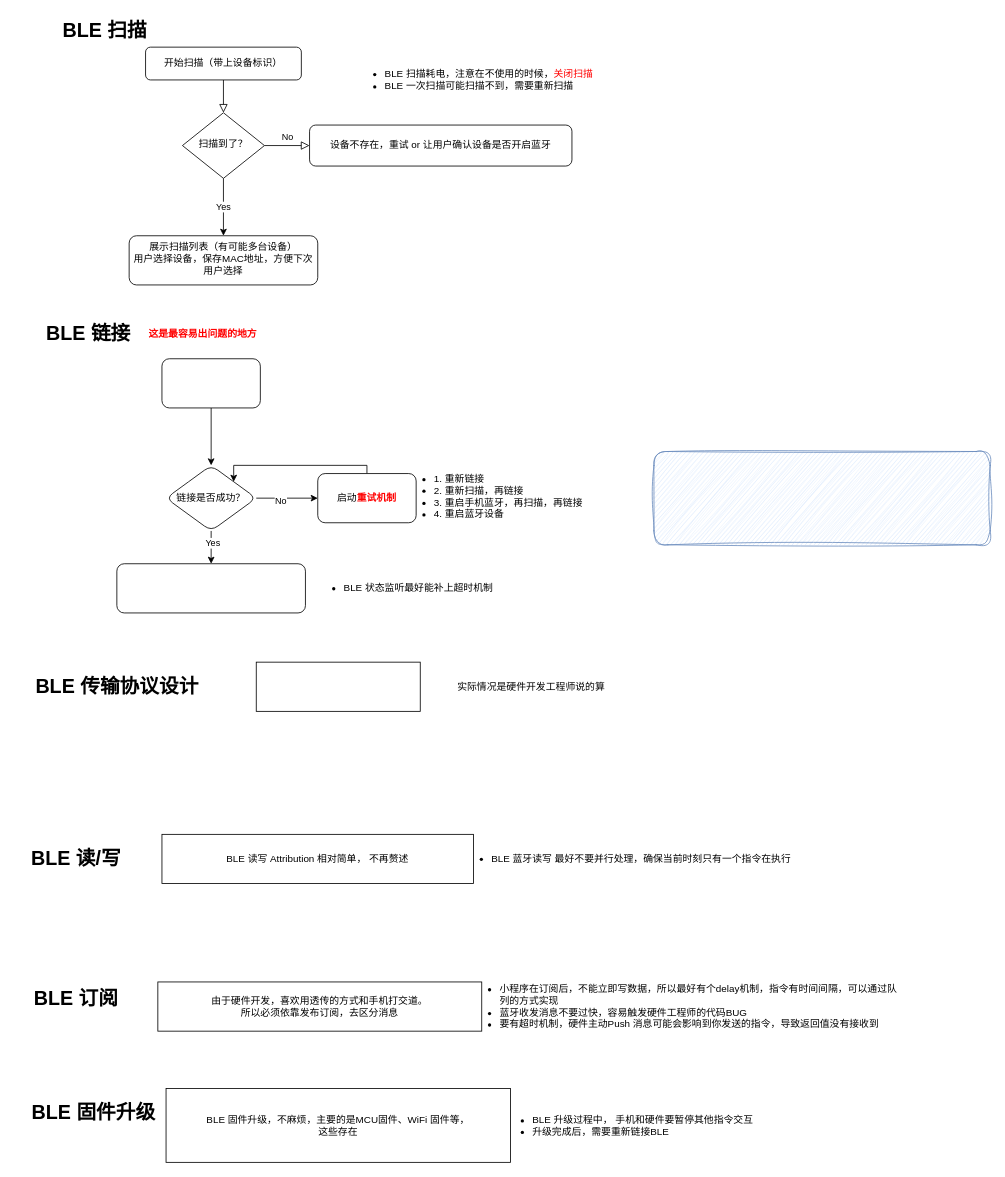
Some shapes in this 1005 by 1177 pixel diagram are drawn without their labels. Each missing label, with the centre of its shape:
参考涂鸦的设计即可: (337,686)
启动全局订阅，并监听蓝牙连接状态 蓝牙连接状态回调，小程序不一定准: (210,588)
用户选择链接蓝牙: (210,383)
链接失败的原因: 1. 设备没打开 2. Android手机微信 查找附近的设备 权限没有打开(会扫描不到任何设备) 3. 蓝牙没有打开: (821,498)
